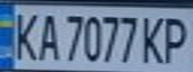0: (81, 11, 103, 63)
7: (60, 10, 84, 62), (118, 12, 142, 64), (100, 11, 121, 63)
A: (33, 9, 60, 62)
K: (9, 8, 42, 62), (139, 12, 169, 64)
P: (160, 12, 193, 64)
